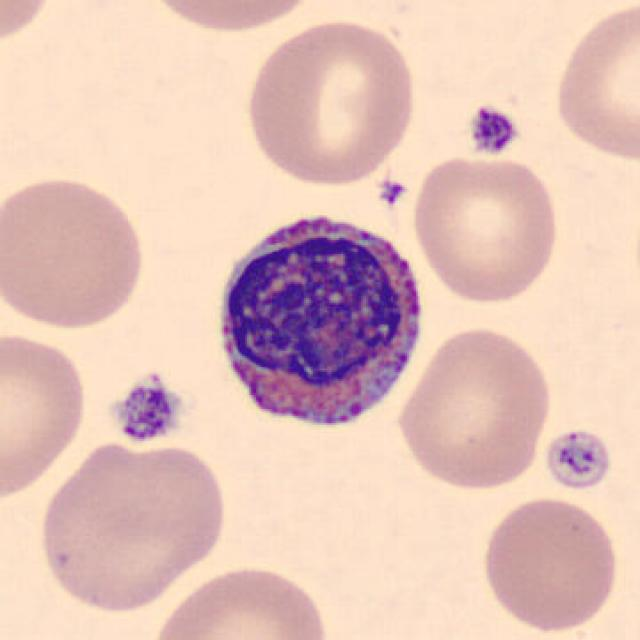Eosinophil: (202, 198, 434, 446)
Platelets: (106, 374, 186, 446), (541, 427, 615, 492), (464, 102, 521, 159)
RBC: (34, 437, 233, 617), (240, 14, 421, 189), (393, 322, 556, 496), (0, 169, 151, 333), (407, 150, 564, 307), (477, 492, 622, 636), (0, 326, 91, 508), (142, 559, 338, 640), (550, 0, 638, 166), (135, 0, 325, 37), (0, 0, 62, 51)
